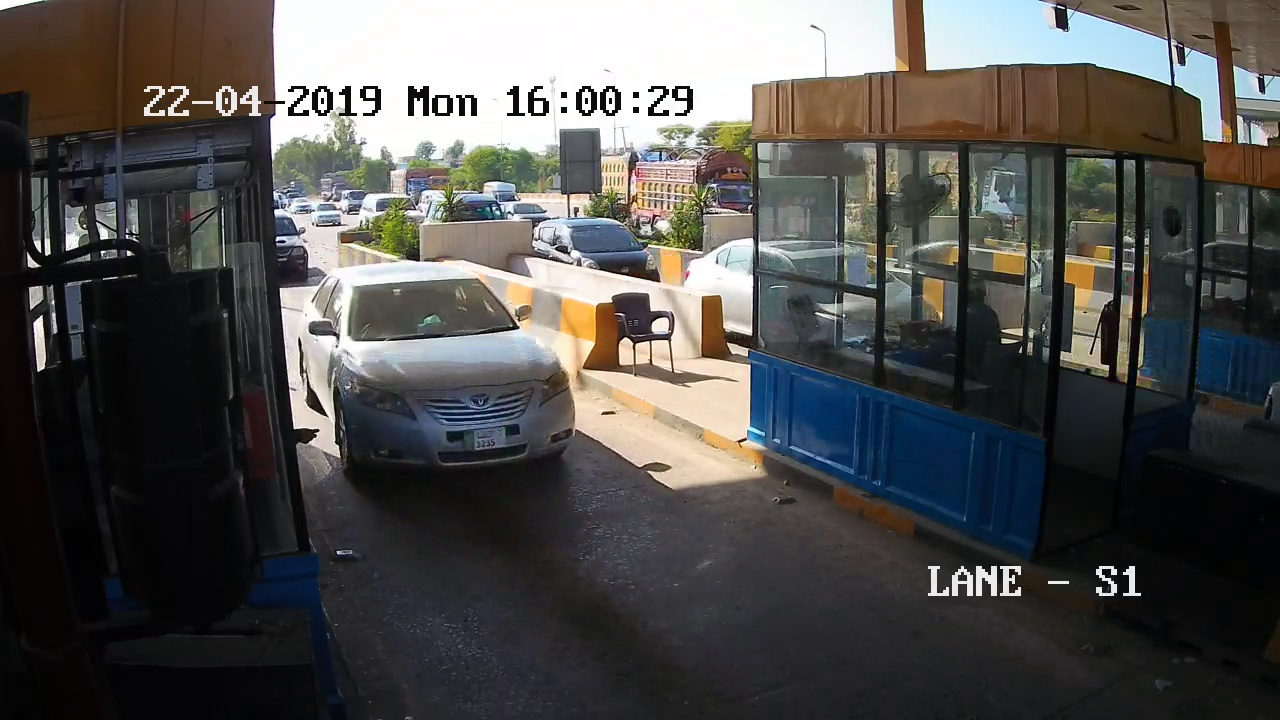Number Plate (Car): (460, 426, 507, 452)
